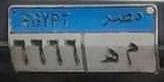6: (66, 37, 79, 67), (31, 37, 44, 64), (48, 39, 61, 64), (16, 36, 25, 65)
haa: (100, 44, 121, 65)
meem: (125, 42, 141, 66)
